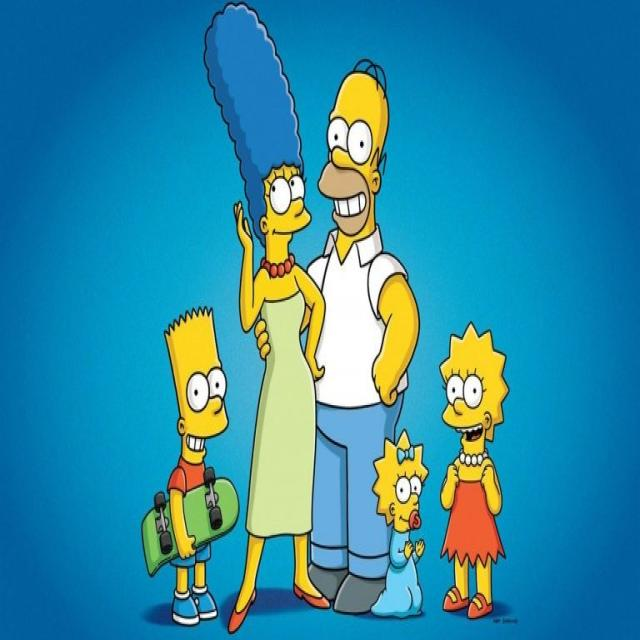Bart Simpson: (164, 303, 231, 466)
Homer Simpson: (317, 55, 393, 238)
Lisa Simpson: (438, 318, 512, 459)
Maggie Simpson: (372, 427, 431, 538)
Marge Simpson: (207, 4, 315, 268)
